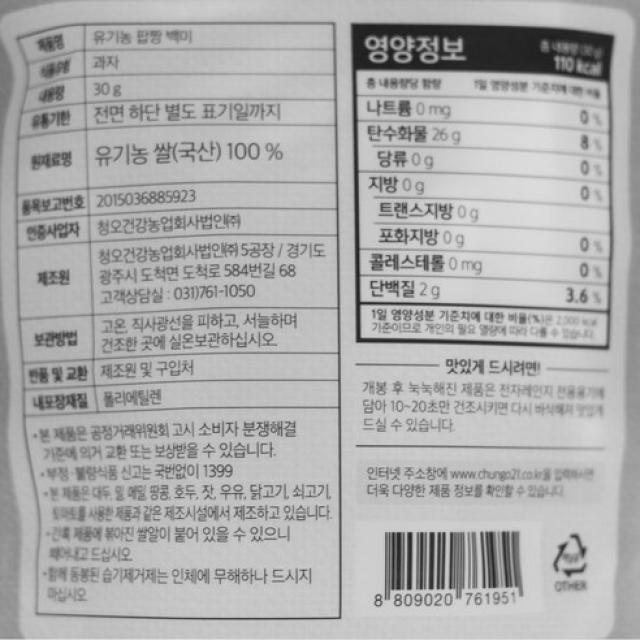Nutrition Label: (340, 9, 635, 363)
